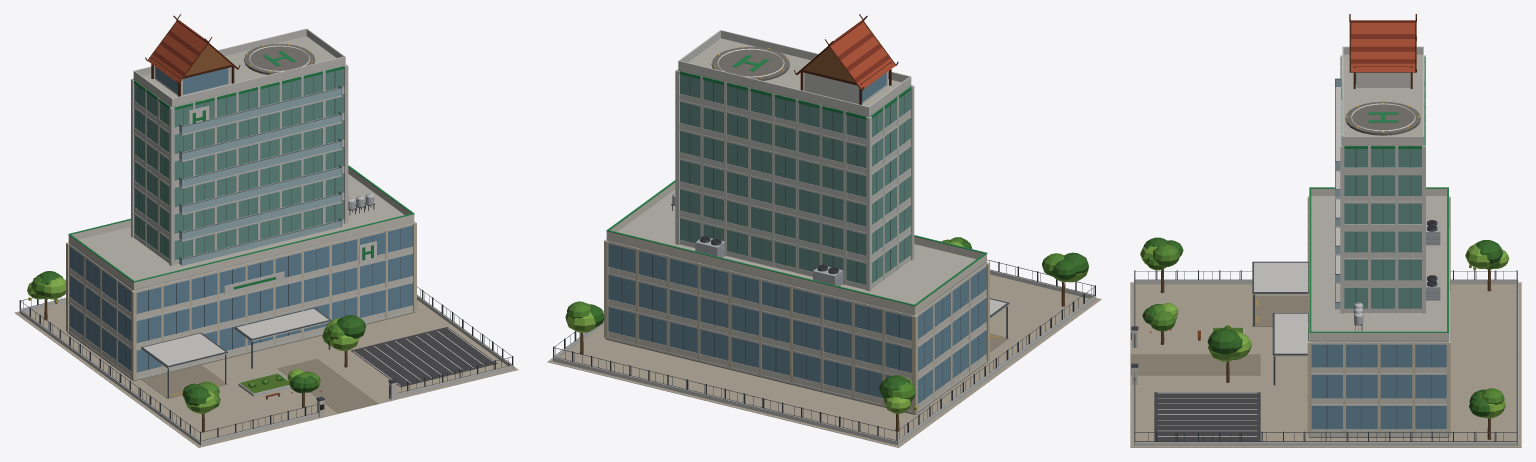
File: hospital.glb
The picture shows the model from 3 angles, left to right: view 1: azimuth 30°, elevation 25°; view 2: azimuth 150°, elevation 25°; view 3: azimuth 270°, elevation 25°; orthographic projection. The views are drawn at different scales.
Visible parts, largest first — view 1: body; view 2: body; view 3: body.
Part boxes in pixels (left/top/right/bottom): body: left=14, top=14, right=518, bottom=447; body: left=547, top=14, right=1101, bottom=447; body: left=1130, top=14, right=1521, bottom=447.
Bounding box in the file's own units: 48.06 × 43.99 × 47.9.
